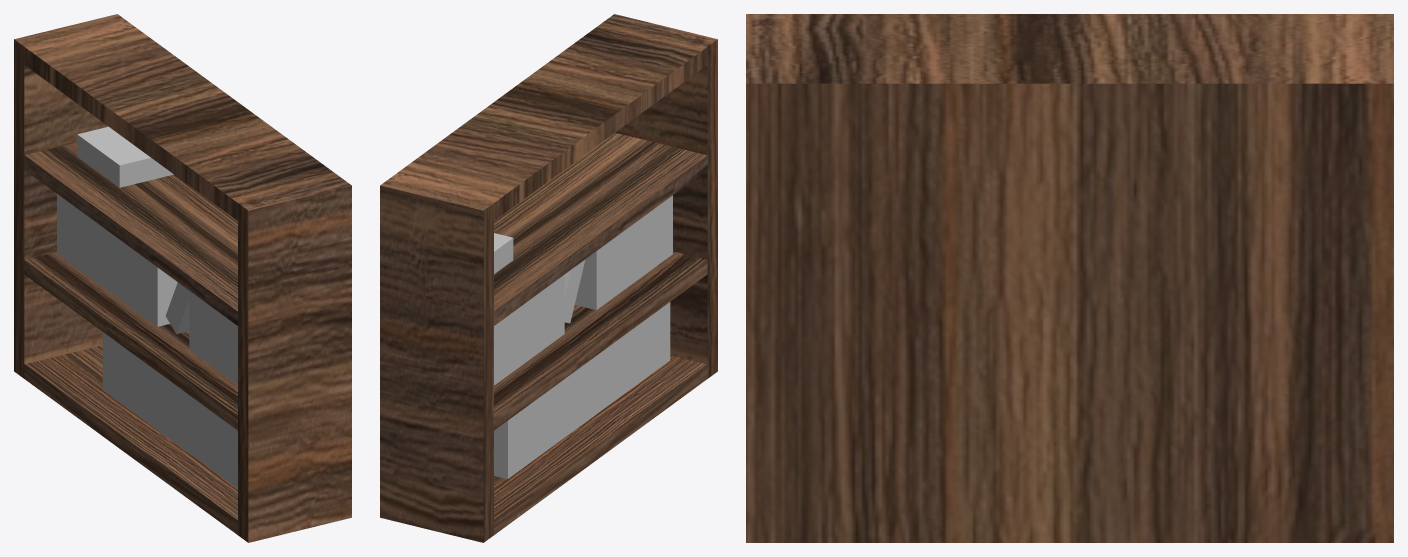
File: bookcasebook3.fbx
The picture shows the model from 3 angles, left to right: view 1: azimuth 30°, elevation 25°; view 2: azimuth 150°, elevation 25°; view 3: azimuth 270°, elevation 25°; orthographic projection. The views are drawn at different scales.
Visible parts, largest first — view 1: Box041, Box042, Box045, Box046, Box043, Box044; view 2: Box041, Box042, Box043, Box045, Box044, Box046; view 3: Box041.
Part boxes in pixels (bbox=[...]): Box041: bbox=[14, 14, 351, 542]; Box042: bbox=[102, 332, 237, 488]; Box045: bbox=[57, 194, 177, 326]; Box046: bbox=[77, 126, 173, 187]; Box043: bbox=[189, 291, 237, 384]; Box044: bbox=[165, 282, 189, 334]; Box041: bbox=[380, 14, 717, 542]; Box042: bbox=[494, 302, 670, 478]; Box043: bbox=[574, 195, 672, 309]; Box045: bbox=[494, 275, 564, 385]; Box044: bbox=[564, 259, 585, 323]; Box046: bbox=[494, 233, 513, 273]; Box041: bbox=[746, 14, 1393, 542].
Bounding box in the file's own units: 343 × 1053 × 1346.
